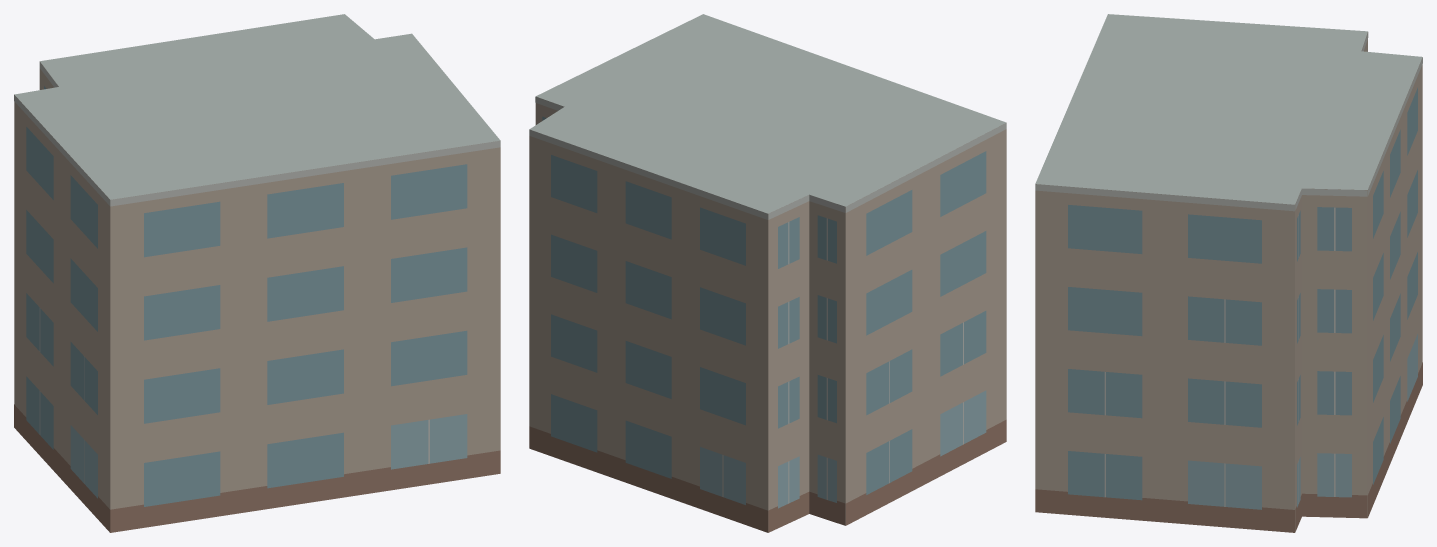
Rendered from survey-upis-32529106.glb.
3 renders of one model, left to right at view 1: azimuth 30°, elevation 25°; view 2: azimuth 150°, elevation 25°; view 3: azimuth 270°, elevation 25°, orthographic. The views are drawn at different scales.
Visible parts, largest first — view 1: survey-upis-32529106.tmp; view 2: survey-upis-32529106.tmp; view 3: survey-upis-32529106.tmp.
Boxes of the visible parts, left/top/right/bottom form: survey-upis-32529106.tmp: left=14, top=14, right=500, bottom=532; survey-upis-32529106.tmp: left=529, top=14, right=1006, bottom=532; survey-upis-32529106.tmp: left=1035, top=14, right=1422, bottom=532.
Size of the model in its own units: 15.22 by 12.2 by 13.07.
